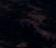five: (18, 20, 23, 28)
four: (25, 20, 30, 27)
three: (31, 19, 36, 27)
